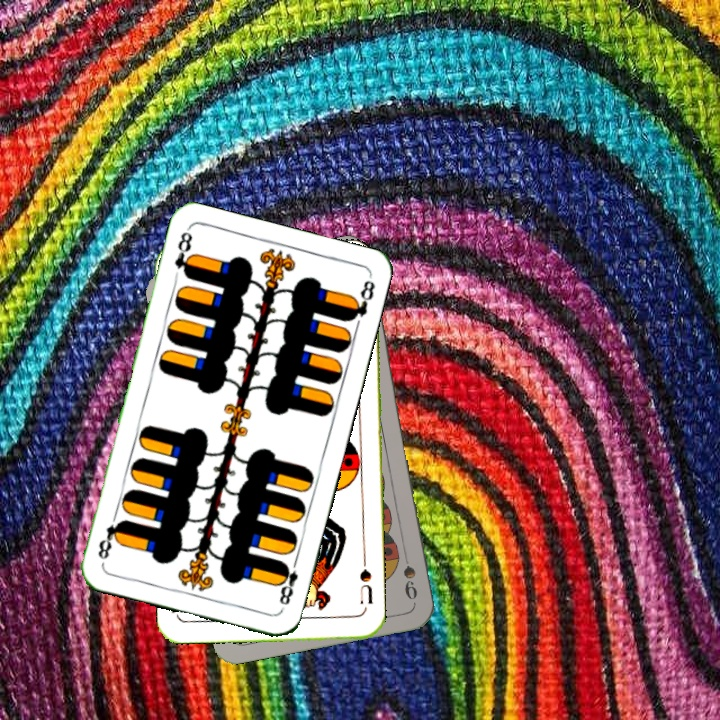E8: (274, 554, 301, 612), (170, 226, 196, 281)
S9: (398, 545, 420, 603)
SU: (355, 565, 376, 607)
